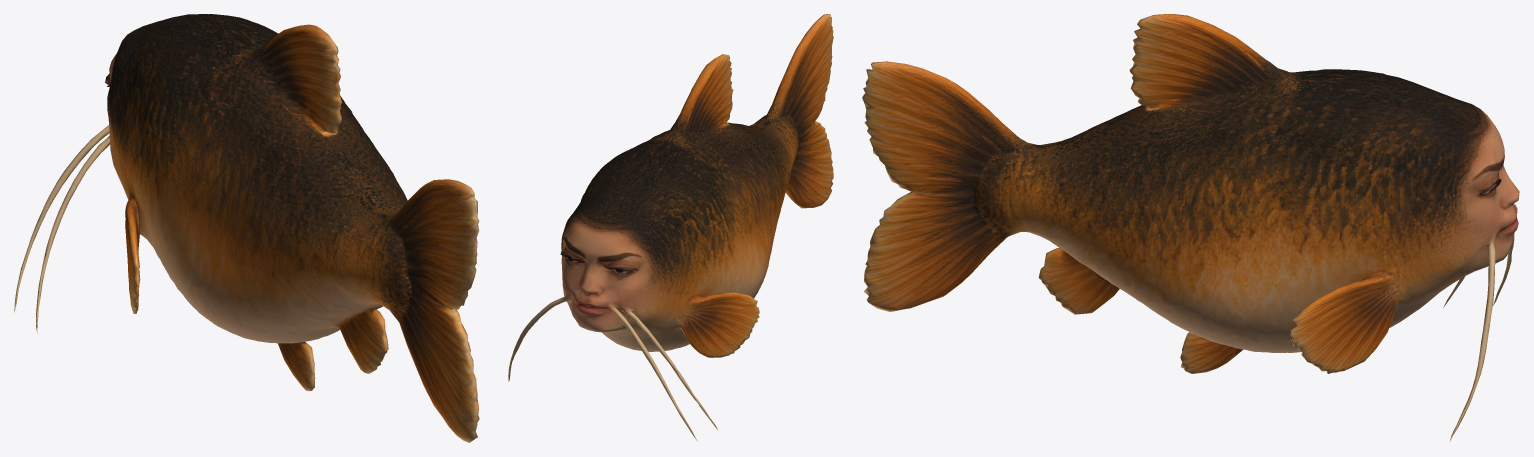
The model's file is fish-jenna-catfish.glb.
3 views of the same model, side by side, from view 1: azimuth 30°, elevation 25°; view 2: azimuth 150°, elevation 25°; view 3: azimuth 270°, elevation 25° (orthographic). The views are drawn at different scales.
Parts seen in each view (by area): view 1: tripo_node_90a4335e-f739-4232-86bf-bd04b0a77a9e; view 2: tripo_node_90a4335e-f739-4232-86bf-bd04b0a77a9e; view 3: tripo_node_90a4335e-f739-4232-86bf-bd04b0a77a9e.
Boxes of the visible parts, left/top/right/bottom form: tripo_node_90a4335e-f739-4232-86bf-bd04b0a77a9e: left=14, top=14, right=479, bottom=442; tripo_node_90a4335e-f739-4232-86bf-bd04b0a77a9e: left=508, top=14, right=833, bottom=441; tripo_node_90a4335e-f739-4232-86bf-bd04b0a77a9e: left=862, top=14, right=1519, bottom=441.
Bounding box in the file's own units: 0.485 × 0.608 × 1.
Materials: 1 (1 with a texture image).
